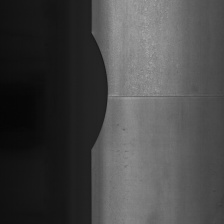crescent_gap: (82, 31, 109, 161), (107, 87, 224, 105)
